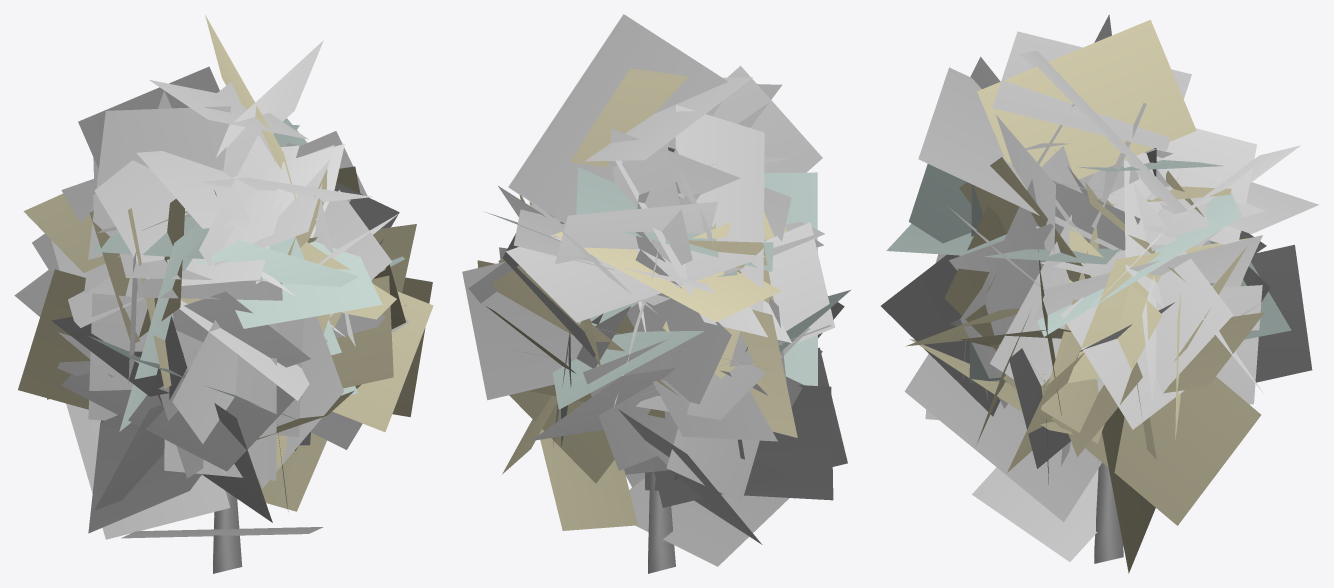
File: yard-arborvitae-lite.lod0.glb
3 renders of one model, left to right at view 1: azimuth 30°, elevation 25°; view 2: azimuth 150°, elevation 25°; view 3: azimuth 270°, elevation 25°, orthographic. The views are drawn at different scales.
Parts seen in each view (by area): view 1: yard-arborvitae-lite; view 2: yard-arborvitae-lite; view 3: yard-arborvitae-lite.
Part boxes in pixels (x1=…): yard-arborvitae-lite: x1=14, y1=15, x2=433, y2=573; yard-arborvitae-lite: x1=462, y1=14, x2=851, y2=573; yard-arborvitae-lite: x1=881, y1=14, x2=1318, y2=573.
Size of the model in its own units: 0.5879 by 0.8388 by 0.6179.
